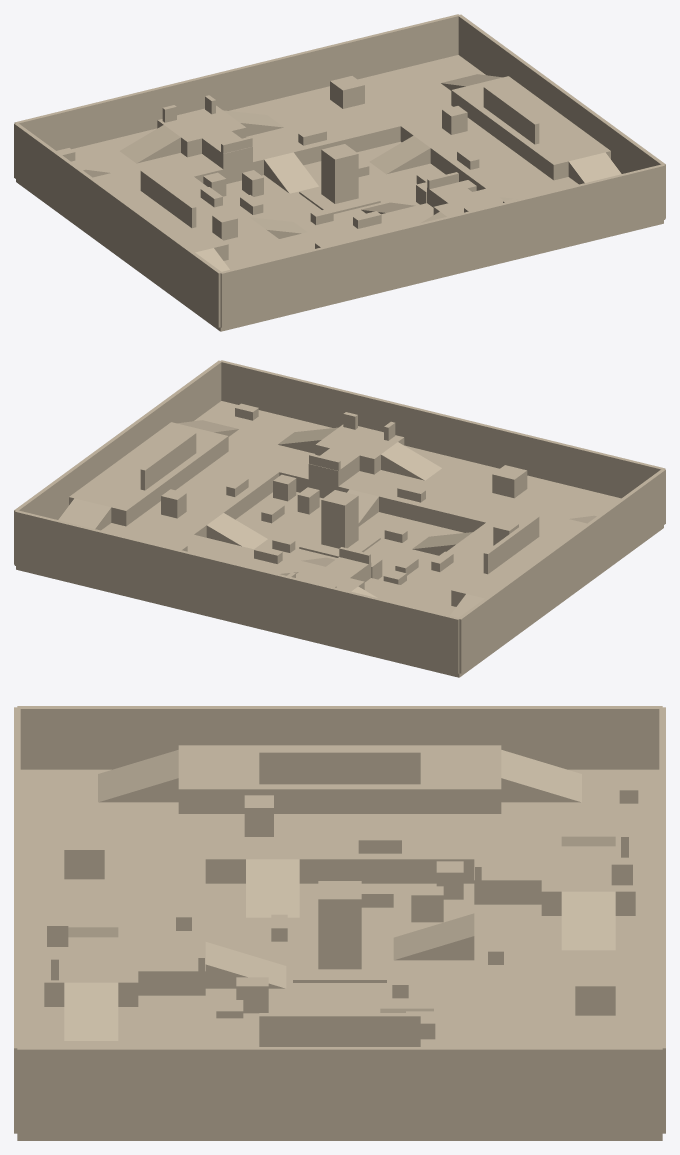
Rendered from zenith_collision.glb.
The picture shows the model from 3 angles, top to bottom: view 1: azimuth 30°, elevation 25°; view 2: azimuth 150°, elevation 25°; view 3: azimuth 270°, elevation 25°; orthographic projection. The views are drawn at different scales.
Parts seen in each view (by area): view 1: COL_wall_south, COL_wall_north, COL_band_n_a, COL_wall_west, COL_floor_terrace, COL_spawn_platform_b, COL_wall_east, COL_band_w_b, COL_band_n_b, COL_spawn_platform_a, COL_band_w_a, COL_tower_a (+18 smaller); view 2: COL_wall_north, COL_wall_south, COL_band_n_b, COL_wall_west, COL_floor_terrace, COL_spawn_platform_b, COL_wall_east, COL_band_w_b, COL_band_n_a, COL_spawn_platform_a, COL_band_w_a, COL_tower_b (+19 smaller); view 3: COL_wall_east, COL_wall_west, COL_band_n_a, COL_band_n_b, COL_floor_terrace, COL_spawn_platform_a, COL_band_w_a, COL_spawn_screen_a, COL_spawn_screen_b, COL_tower_b, COL_tower_a, COL_corner_s_a (+24 smaller).
Part boxes in pixels (x1,y1,x2,y2): COL_wall_south: (220,164,665,327); COL_wall_north: (14,14,458,150); COL_band_n_a: (76,69,452,183); COL_wall_west: (14,123,221,327); COL_floor_terrace: (16,141,663,331); COL_spawn_platform_b: (451,76,610,180); COL_wall_east: (458,14,665,218); COL_band_w_b: (400,116,544,190); COL_band_n_b: (228,174,563,267); COL_spawn_platform_a: (93,169,228,260); COL_band_w_a: (165,176,278,251); COL_tower_a: (157,105,246,157); COL_wall_north: (14,510,459,673); COL_wall_south: (221,360,665,498); COL_band_n_b: (220,415,603,532); COL_wall_west: (458,469,665,673); COL_floor_terrace: (16,492,663,677); COL_spawn_platform_b: (69,422,228,526); COL_wall_east: (14,360,221,564); COL_band_w_b: (135,458,279,537); COL_band_n_a: (116,520,451,613); COL_spawn_platform_a: (451,515,586,606); COL_band_w_a: (401,522,495,597); COL_tower_b: (315,424,404,474); COL_wall_east: (17,1047,662,1134); COL_wall_west: (17,706,662,769); COL_band_n_a: (474,814,659,1046); COL_band_n_b: (20,814,205,1046); COL_floor_terrace: (17,883,662,1140); COL_spawn_platform_a: (178,745,501,813); COL_band_w_a: (205,814,474,883); COL_spawn_screen_a: (259,749,420,784); COL_spawn_screen_b: (259,1013,420,1046); COL_tower_b: (44,937,138,1006); COL_tower_a: (541,846,635,915); COL_corner_s_a: (20,769,178,813).
Bounding box in the file's own units: 60.5 × 7.6 × 48.5.
